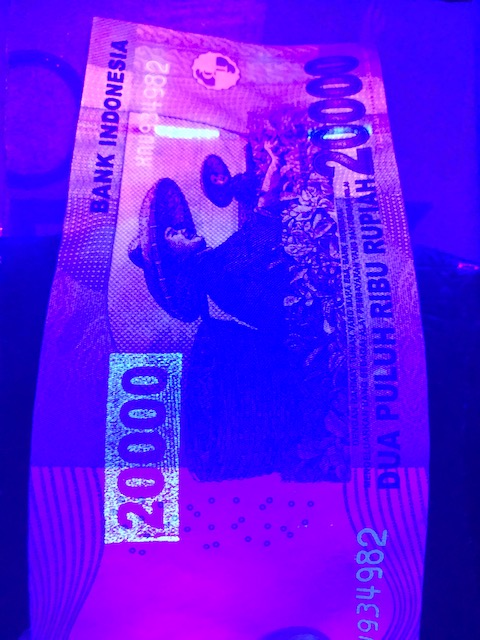20_RIBU_ASLI: (97, 342, 188, 551)
